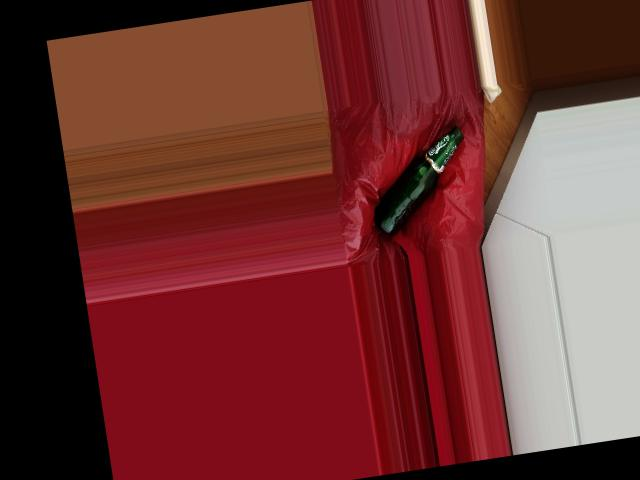beer: (362, 124, 476, 236)
